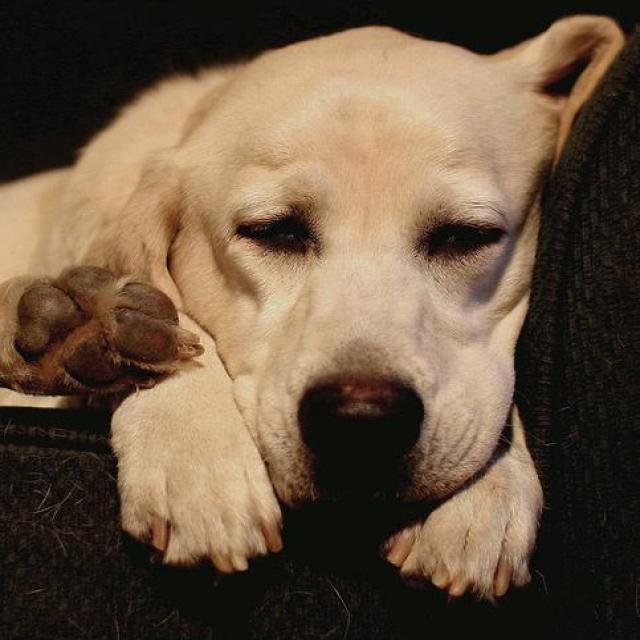relax: (84, 46, 571, 595)
